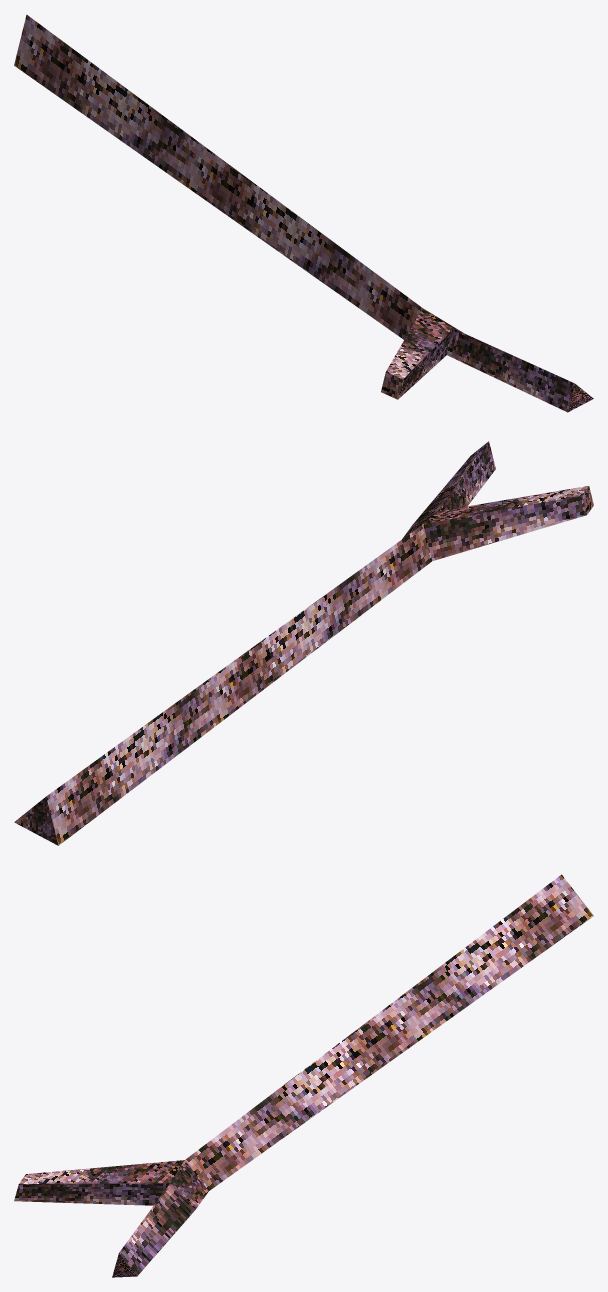
File: stick.glb
The picture shows the model from 3 angles, top to bottom: view 1: azimuth 30°, elevation 25°; view 2: azimuth 150°, elevation 25°; view 3: azimuth 330°, elevation 25°; orthographic projection. The views are drawn at different scales.
Visible parts, largest first — view 1: stick; view 2: stick; view 3: stick.
Part boxes in pixels (bbox=[...]): stick: bbox=[14, 15, 593, 412]; stick: bbox=[14, 441, 593, 845]; stick: bbox=[14, 874, 593, 1277].
Bounding box in the file's own units: 5.69 × 1.59 × 29.74.
1 material, 1 textured.
